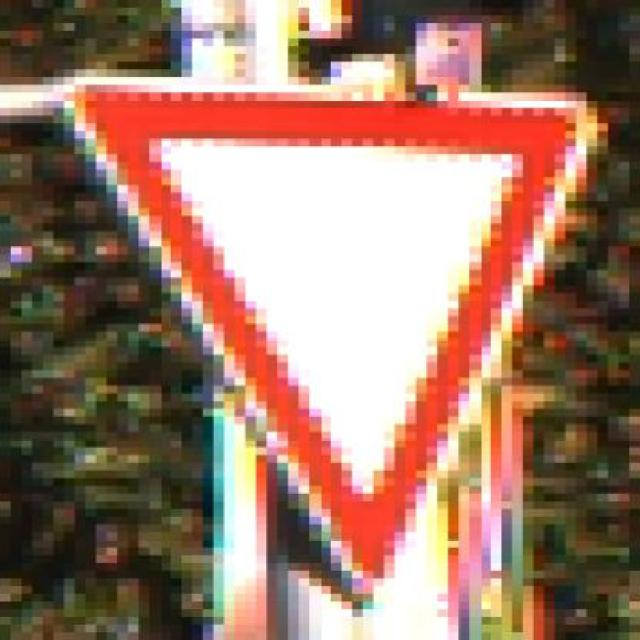Give Way: (64, 54, 598, 609)
